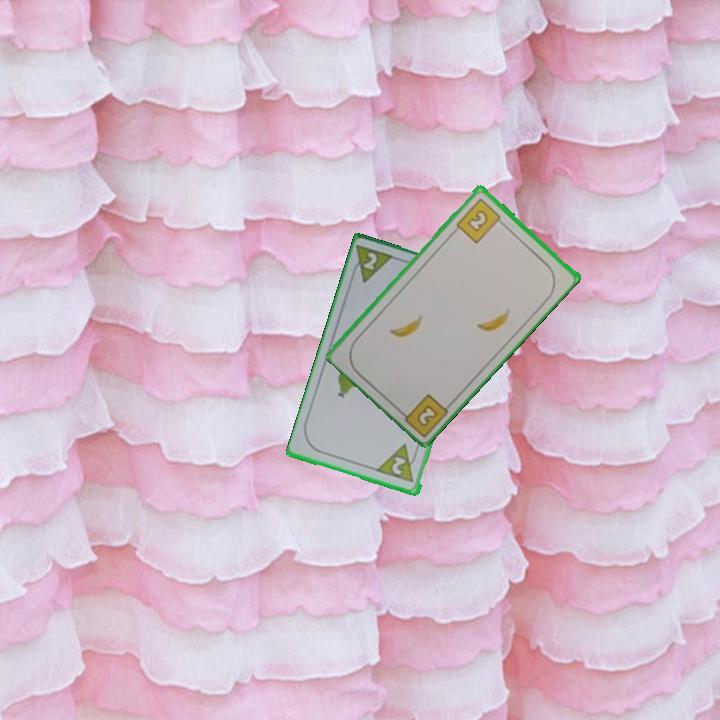2b: (452, 194, 507, 246), (413, 401, 440, 429)
2p: (347, 242, 399, 286), (388, 453, 409, 478)
